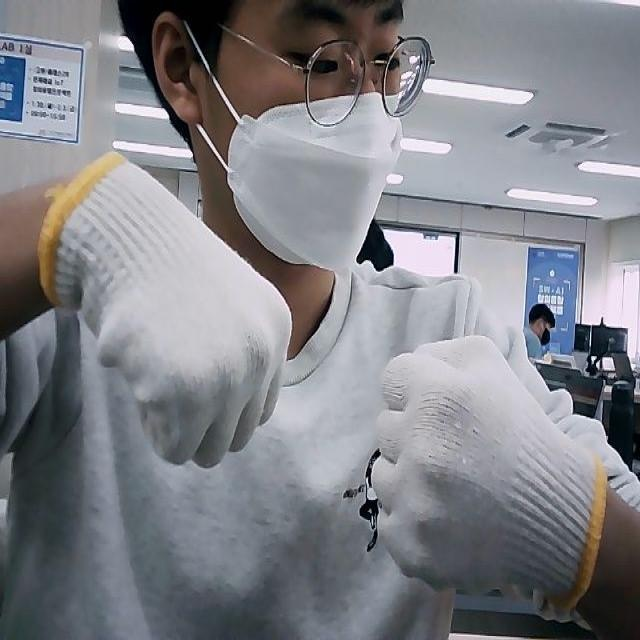Guantes: (41, 151, 292, 467), (371, 335, 608, 612)
